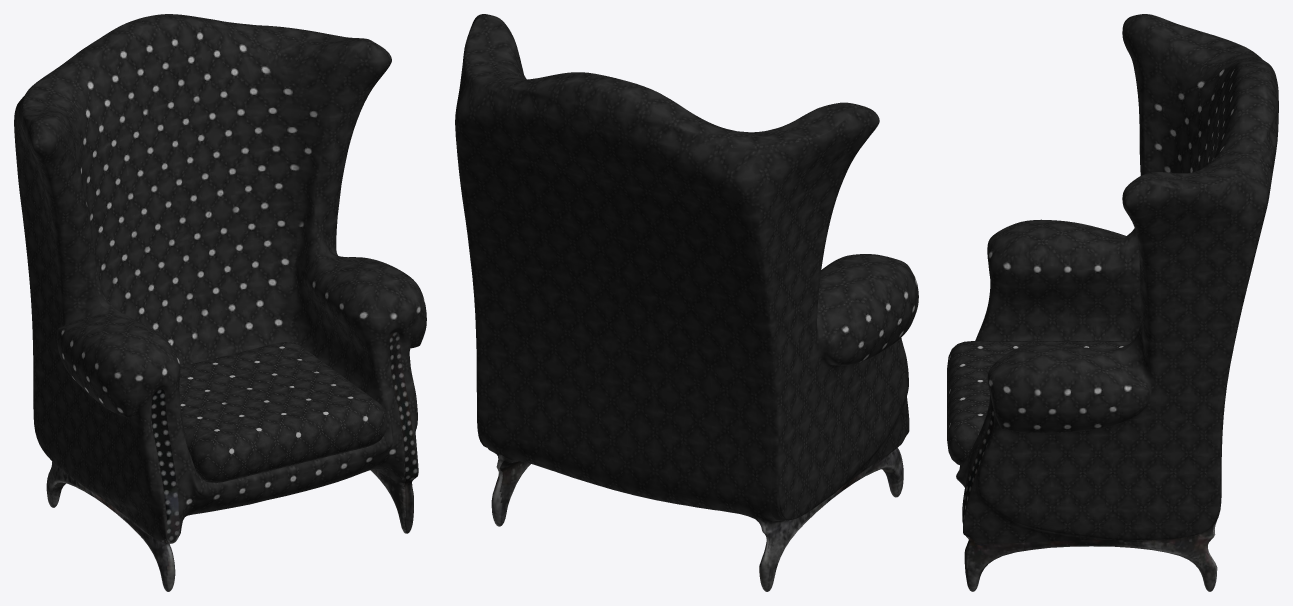
The model's file is gothic-chair.glb.
3 renders of one model, left to right at view 1: azimuth 30°, elevation 25°; view 2: azimuth 150°, elevation 25°; view 3: azimuth 270°, elevation 25°, orthographic. The views are drawn at different scales.
Parts seen in each view (by area): view 1: chair, cushion; view 2: chair; view 3: chair, cushion.
Boxes of the visible parts, x1,y1,x2,y2 form: chair: [14, 14, 426, 591]; cushion: [151, 342, 387, 482]; chair: [455, 14, 918, 591]; chair: [956, 14, 1278, 591]; cushion: [947, 341, 1131, 465].
Size of the model in its own units: 1.32 by 1.56 by 1.02.
Materials: 3 (3 with a texture image).
